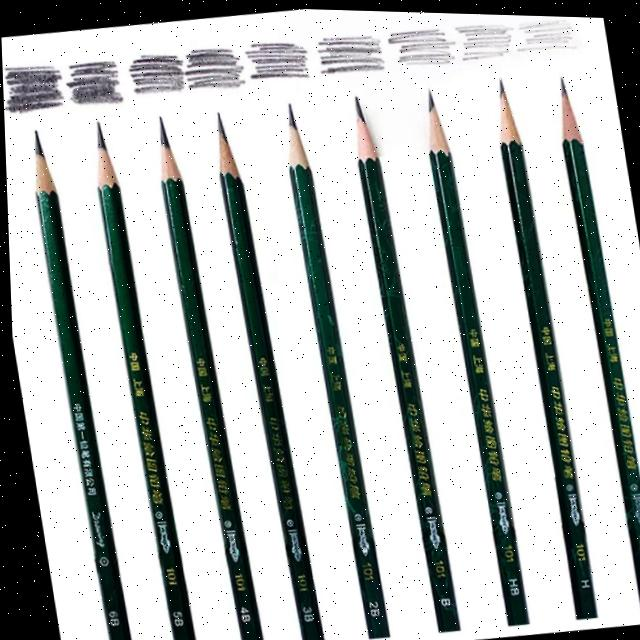pencil: (267, 90, 393, 640), (410, 79, 532, 629), (203, 99, 326, 640), (143, 103, 265, 640), (482, 66, 600, 619), (342, 85, 460, 635), (83, 112, 197, 640), (19, 121, 134, 640), (549, 67, 640, 613)
